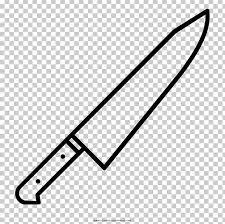Knife: (14, 8, 209, 204)
